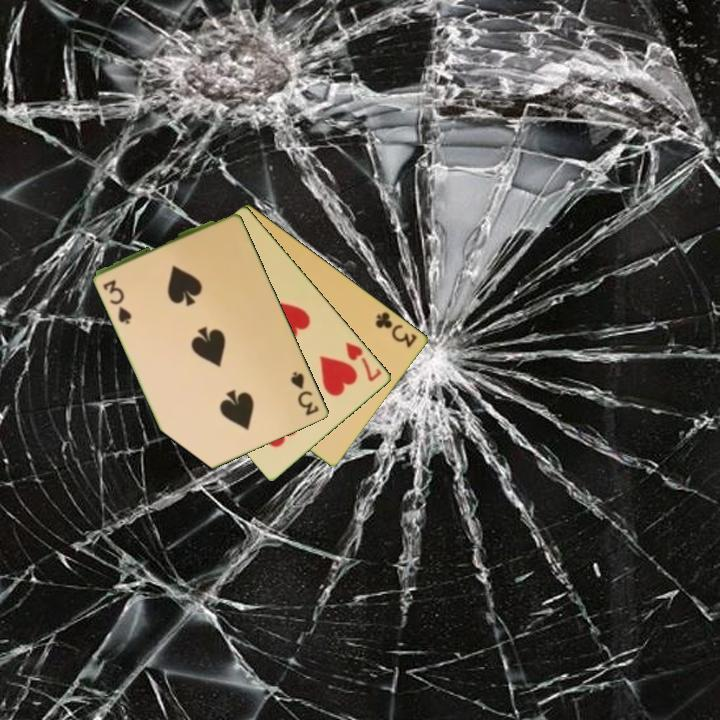3c: (372, 308, 420, 351)
3s: (287, 368, 322, 419), (100, 276, 135, 326)
7h: (342, 338, 385, 385)
